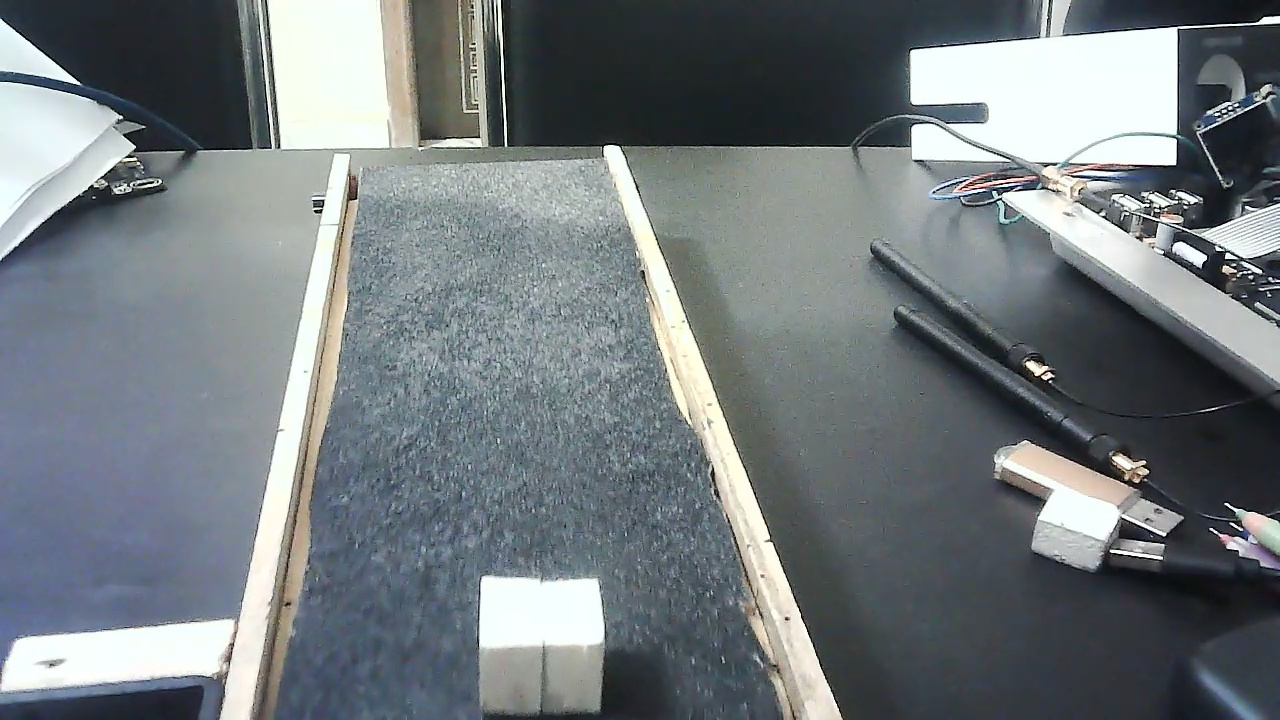Small: (472, 574, 611, 713)
